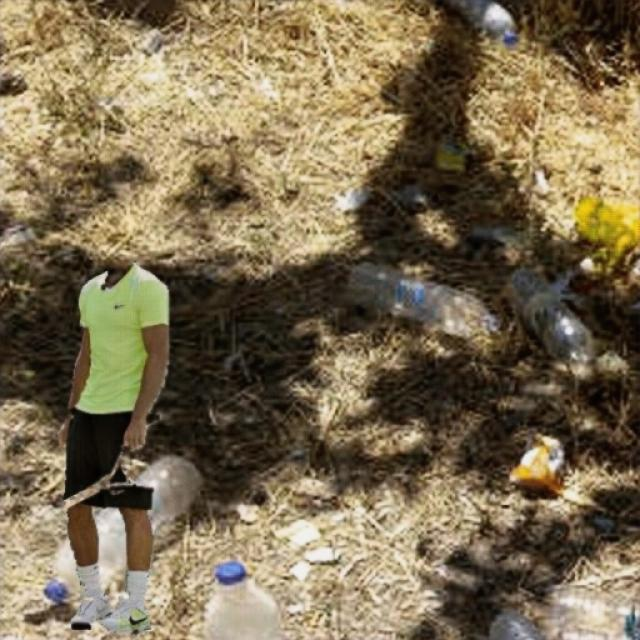Person in Rubble: (56, 261, 168, 635)
